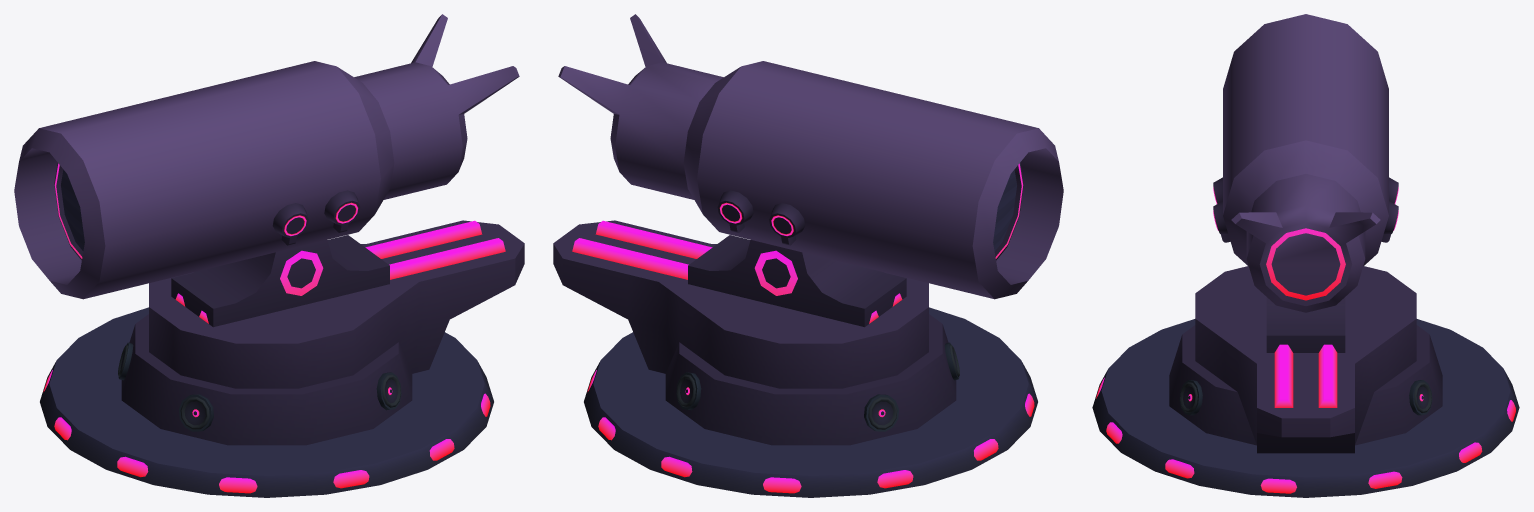
Rendered from purple_02.fbx.
3 renders of one model, left to right at view 1: azimuth 30°, elevation 25°; view 2: azimuth 150°, elevation 25°; view 3: azimuth 270°, elevation 25°, orthographic. The views are drawn at different scales.
Visible parts, largest first — view 1: Plane.013, Circle.015, purple_02; view 2: Plane.013, Circle.015, purple_02; view 3: Plane.013, Circle.015, purple_02.
Boxes of the visible parts, x1,y1,x2,y2 form: Plane.013: (14,14,519,327); Circle.015: (118,220,524,445); purple_02: (40,307,493,497); Plane.013: (558,14,1063,327); Circle.015: (553,220,959,445); purple_02: (584,307,1037,497); Plane.013: (1213,14,1398,352); Circle.015: (1169,266,1442,453); purple_02: (1092,319,1519,497).
Bounding box in the file's own units: 604 × 398 × 514.
